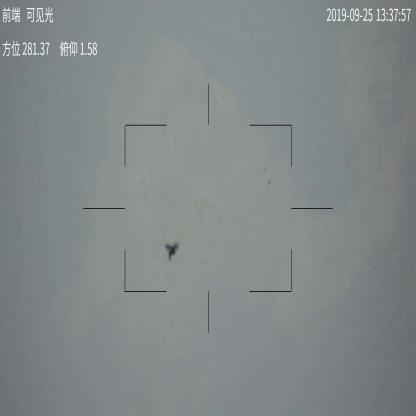uav: (162, 241, 181, 263)
